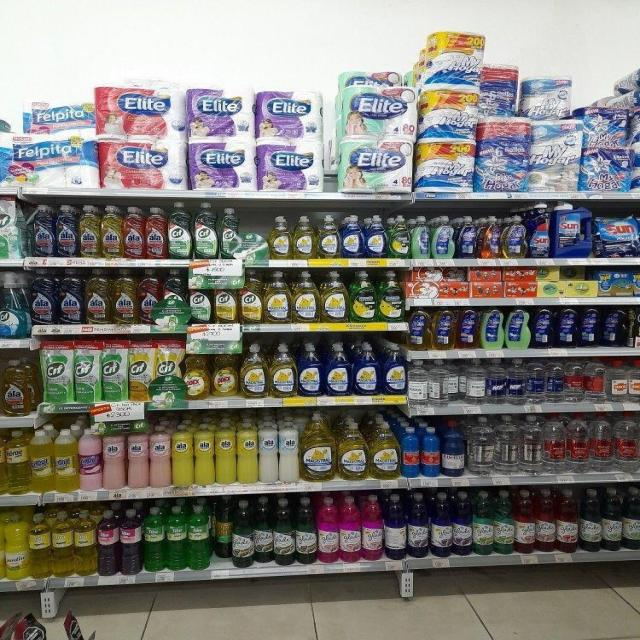ala_conc_amarillo: (2, 358, 36, 417), (85, 269, 110, 324), (112, 269, 136, 324), (78, 204, 100, 258), (101, 204, 122, 258)
ala_conc_azul: (30, 268, 57, 325), (58, 268, 83, 325), (29, 204, 55, 257), (55, 205, 77, 258)
ala_conc_rojo: (138, 268, 160, 325), (144, 206, 167, 259), (123, 206, 144, 260), (442, 267, 469, 298)
ala_crem_amarillo: (172, 422, 193, 487), (237, 419, 258, 484), (215, 420, 236, 484), (194, 422, 215, 485)
ala_crem_blanco: (279, 419, 300, 483), (259, 420, 278, 484)
ala_crem_rosado: (102, 428, 126, 490), (127, 423, 149, 489), (149, 422, 171, 488)
cif_conc_bot_amarilla: (238, 271, 262, 324), (214, 273, 238, 324)
cif_conc_botella_verde: (162, 269, 187, 324), (193, 202, 217, 259), (168, 202, 192, 259), (189, 271, 212, 324), (218, 206, 240, 259), (624, 486, 640, 550)
cif_conc_sachet_amarillo: (154, 339, 182, 401), (129, 340, 153, 401)
cif_conc_sachet_verde: (41, 341, 72, 403), (73, 340, 100, 402), (102, 339, 127, 401)
heroe: (74, 509, 97, 576), (6, 430, 29, 495), (31, 429, 54, 493), (0, 430, 6, 495)
magistral_con_amarillo: (301, 414, 336, 482), (338, 420, 368, 480), (370, 421, 399, 479), (269, 343, 297, 398), (240, 344, 268, 398), (264, 270, 291, 324), (321, 270, 348, 323), (292, 271, 319, 323), (292, 216, 316, 260), (316, 214, 339, 259), (269, 216, 291, 260)
magistral_con_azul: (352, 342, 380, 397), (297, 342, 323, 397), (325, 342, 351, 397), (382, 343, 406, 396), (340, 214, 363, 258), (364, 214, 386, 258)
magistral_con_verde: (388, 215, 410, 259)
odex: (212, 349, 238, 397)
zorro: (480, 306, 504, 350), (506, 306, 530, 350), (432, 307, 456, 350), (432, 215, 454, 259), (456, 306, 478, 349), (408, 307, 429, 350), (411, 215, 430, 259)
